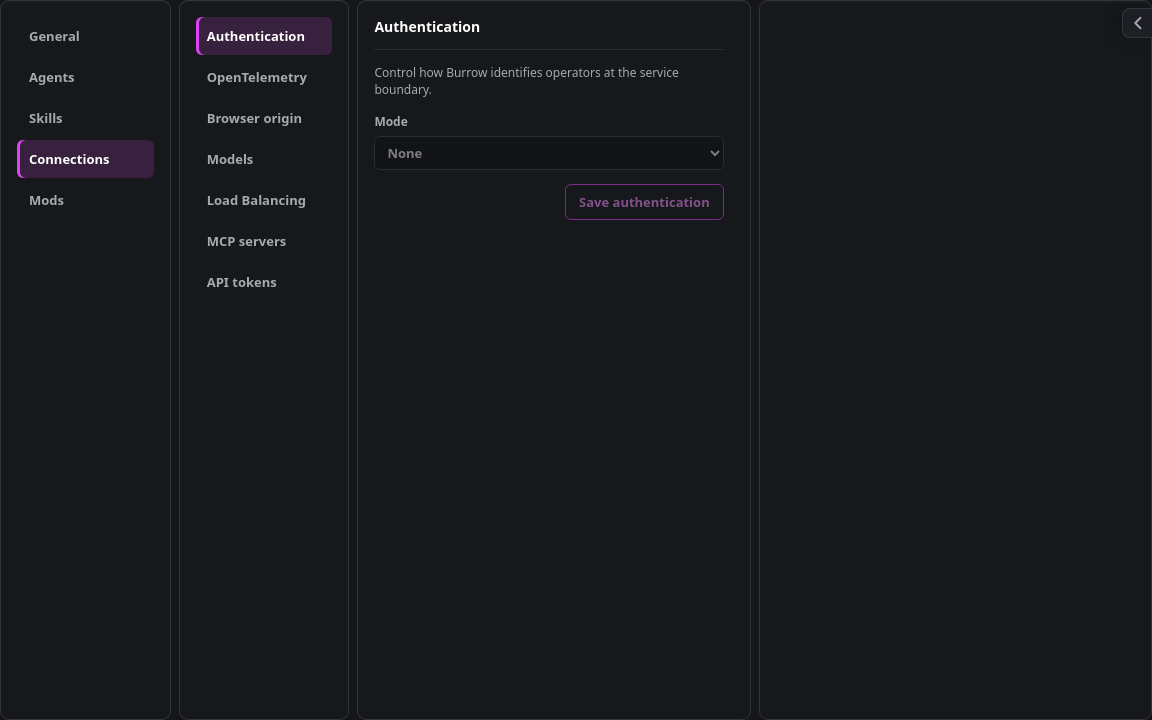
Scenario: MCP dirty navigation to subsection: Discard preserves or reaches the requested destination
Click the button "MCP servers". click: (264,241)
box: [196,222,332,260]
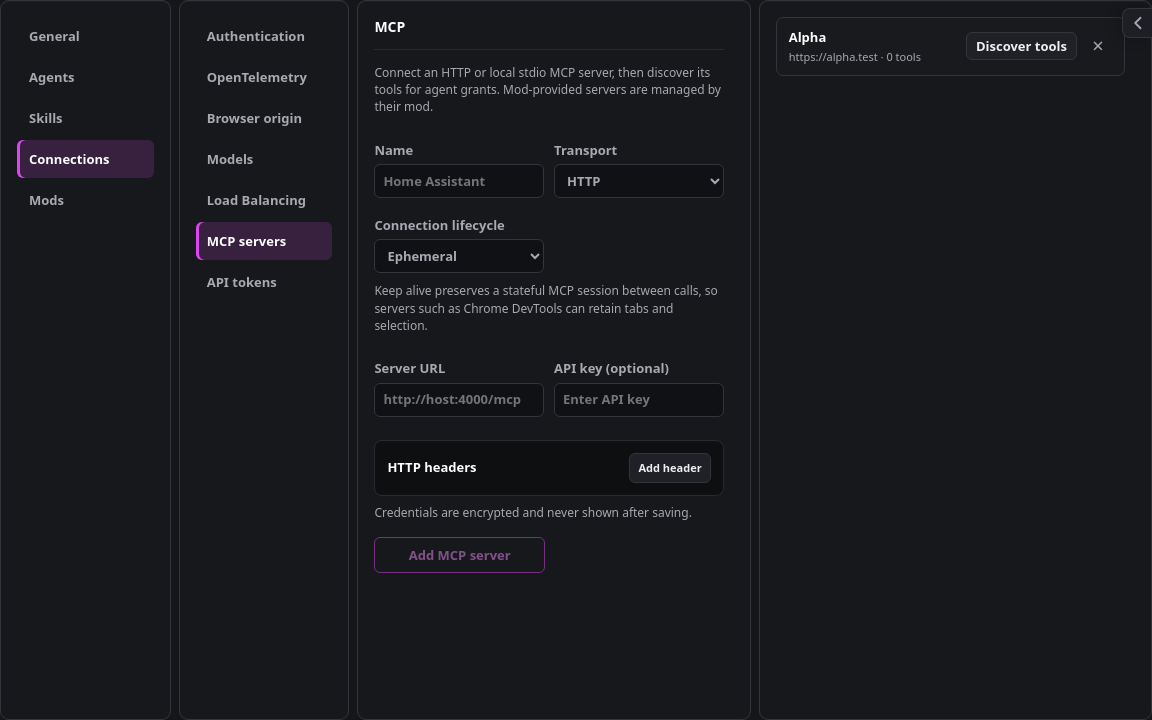
Click the button with aria-label "Edit Alpha". click: (871,46)
box: [789,28,954,65]
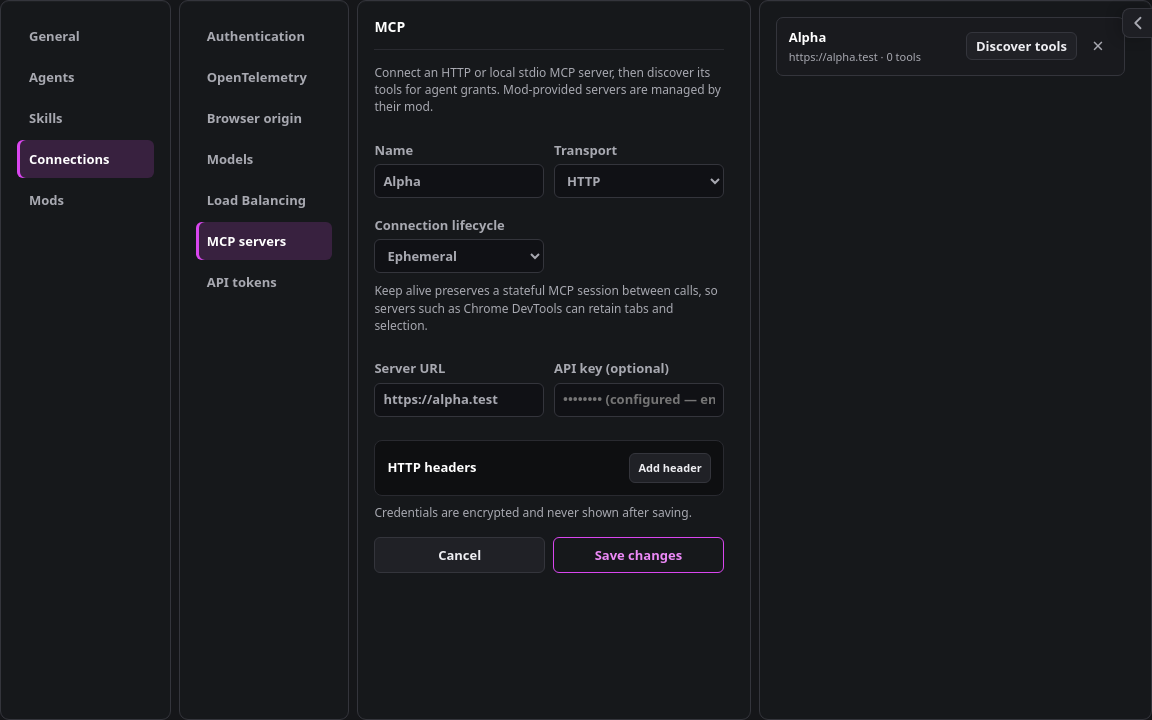
Expected: the element named "Edit Alpha" is shown, [759,0,1151,719]
Replace the text in the field labelled "Name" with "MCP draft". click: (459,181)
box: [374,164,544,198]
Click the button "Browser origin". click: (264,118)
box: [196,99,332,137]
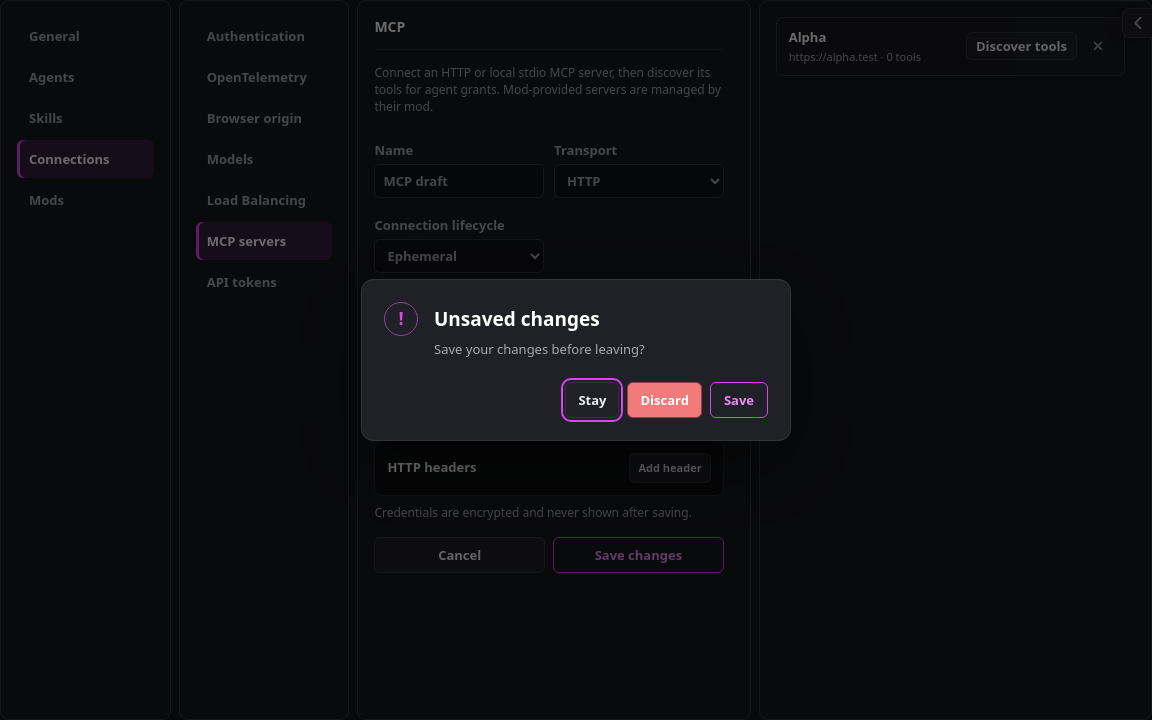
Expected: the button "MCP servers" is marked as current, [196,222,332,260]
Click the button "Discard". click: (665,400)
box: [627,382,702,418]
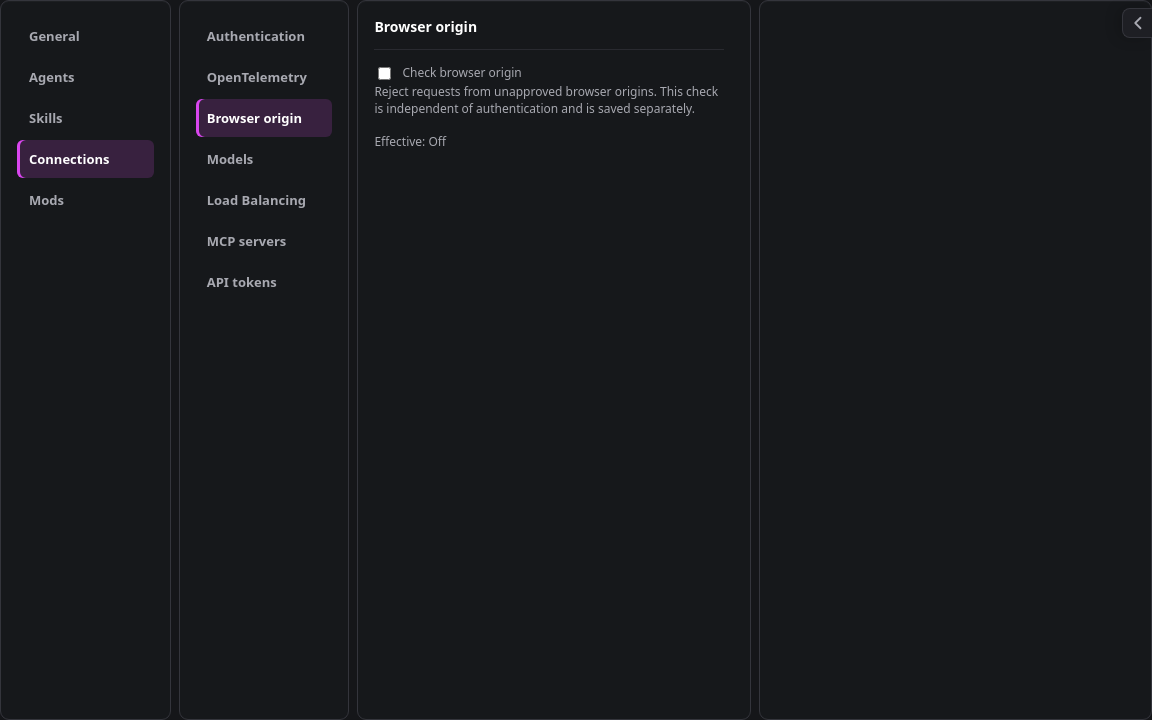
Expected: the heading "Browser origin" is shown, [374,17,724,50]
Expected: the dialog is gone
Click the button "MCP servers". click: (264,241)
box: [196,222,332,260]
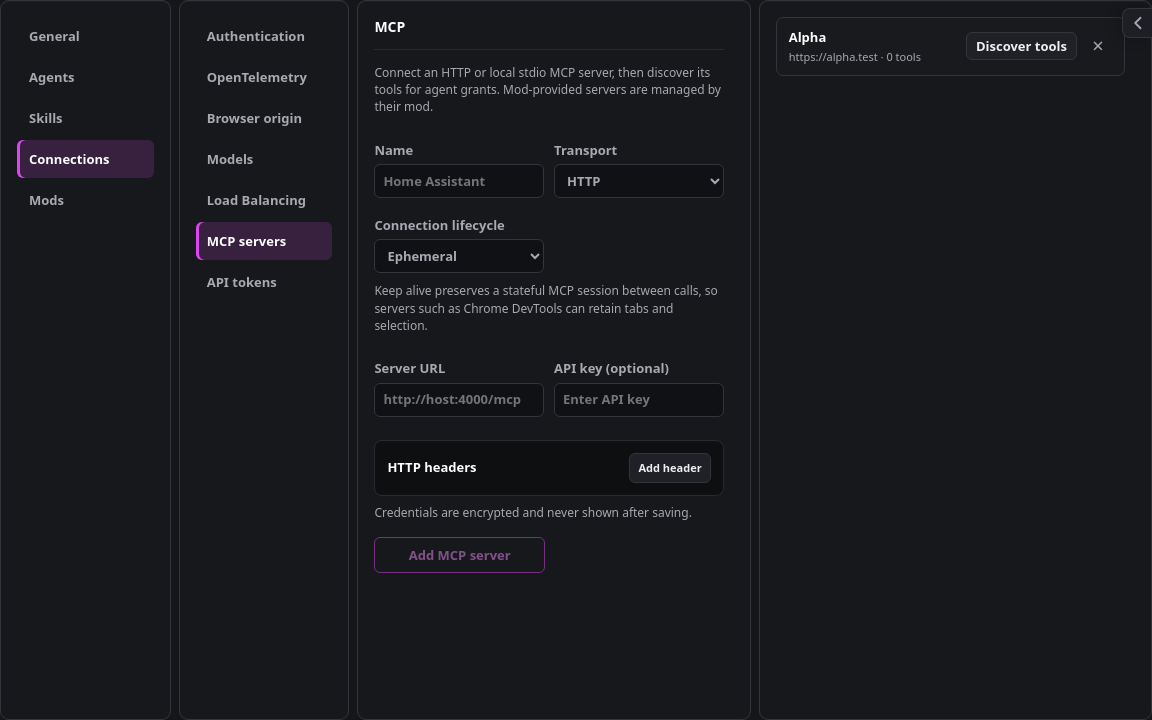
Click the button with aria-label "Edit Alpha". click: (871,46)
box: [789,28,954,65]
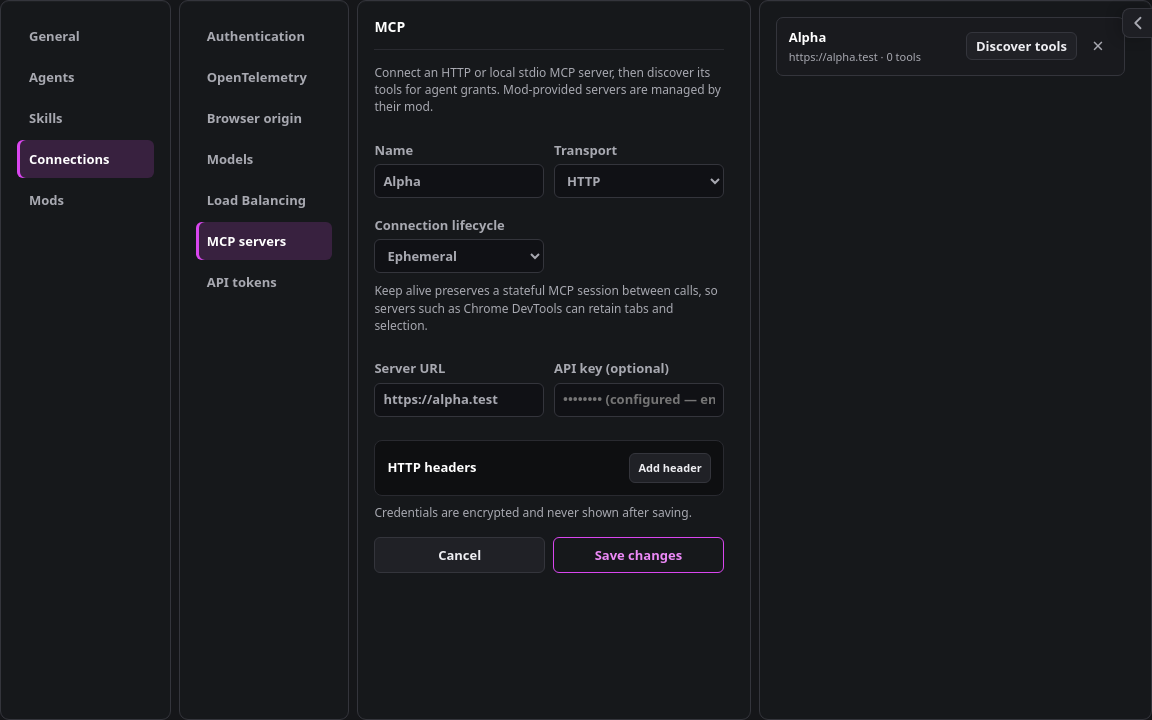
Expected: the field showing "Alpha" is shown, [374,164,544,198]
